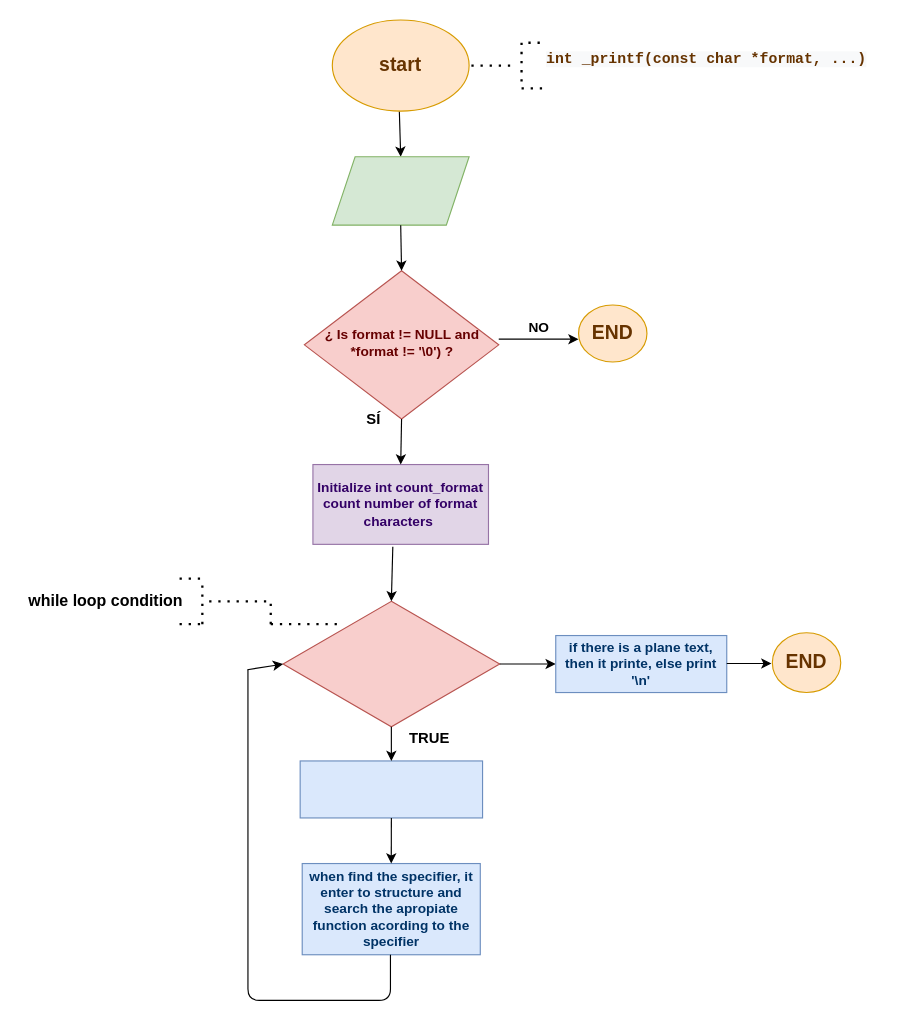
Image size: 905x1021. Some labels were removed from this diagram. Each missing label, with the centre of its shape:
"Input: *format" belongs at (400,190).
"Start to find the % acording to the input" belongs at (391,789).
"while *format is different to '\0' and it find a specifier" belongs at (391,663).
